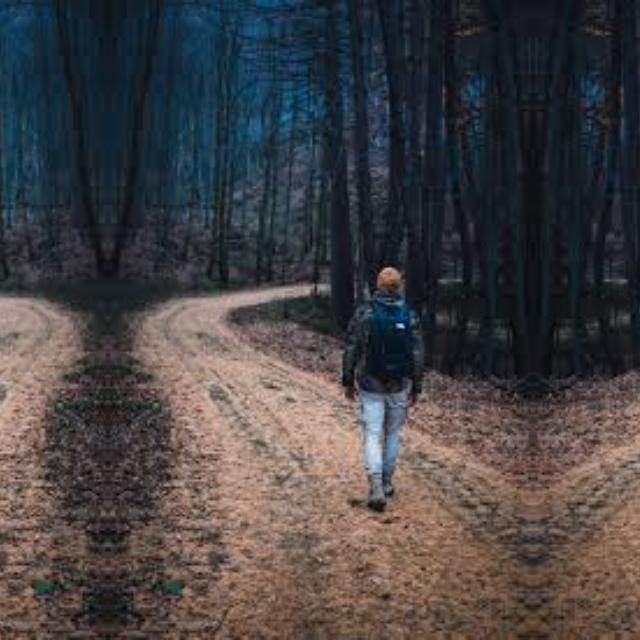person: (316, 261, 438, 495), (627, 261, 640, 495)
